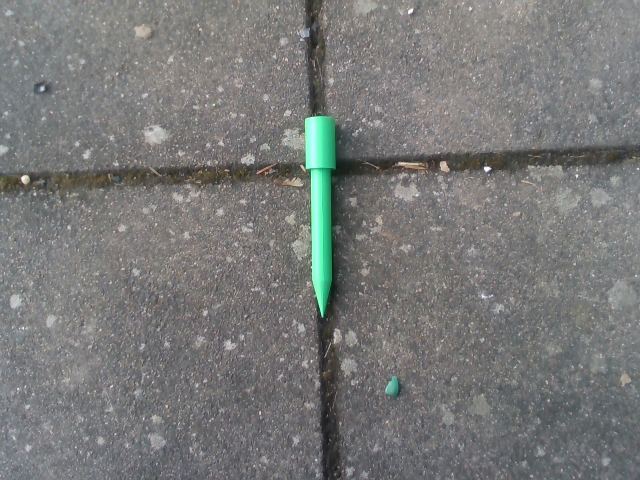Probe: (302, 108, 340, 327)
